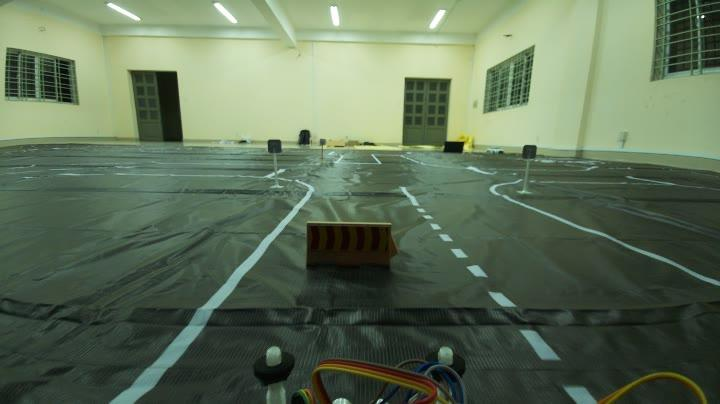roadblock: (291, 214, 407, 284)
